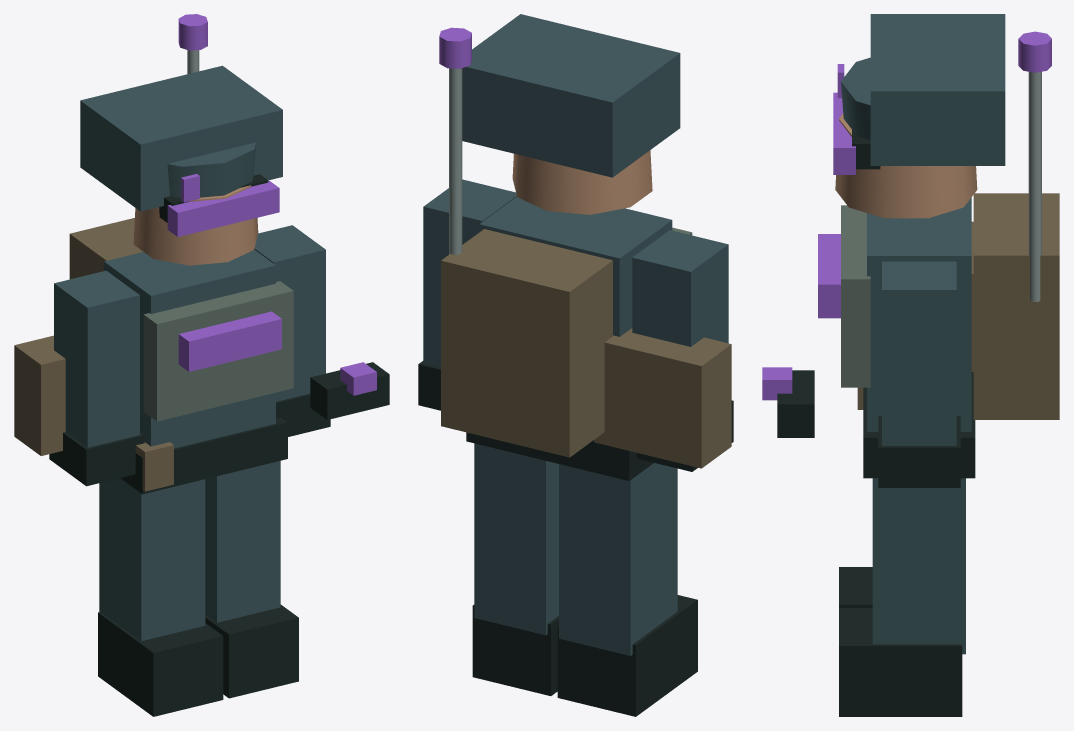
File: recon_l01.glb
3 views of the same model, side by side, from view 1: azimuth 30°, elevation 25°; view 2: azimuth 150°, elevation 25°; view 3: azimuth 270°, elevation 25° (orthographic). The views are drawn at different scales.
Visible parts, largest first — view 1: trouser (×2), sleeve (×2), hood, boot (×2), vest, body, map_satchel, belt, face, glove (×2), dzn_chest_flash, optic_band (+6 smaller); view 2: trouser (×2), field_pack, hood, sleeve (×2), map_satchel, boot (×2), body, face, belt, signal_mast, glove (×2), signal_tip; view 3: hood, field_pack, trouser, sleeve, boot (×2), body, face, vest, glove, signal_mast, scanner, helmet (+6 smaller).
Boxes of the visible parts, bbox=[...] form: trouser (×2): bbox=[99, 461, 280, 641]; sleeve (×2): bbox=[54, 225, 325, 447]; hood: bbox=[80, 65, 282, 211]; boot (×2): bbox=[98, 604, 298, 716]; vest: bbox=[143, 281, 293, 421]; body: bbox=[104, 250, 275, 448]; map_satchel: bbox=[14, 335, 65, 455]; belt: bbox=[120, 417, 287, 494]; face: bbox=[133, 185, 258, 265]; glove (×2): bbox=[49, 393, 330, 486]; dzn_chest_flash: bbox=[178, 311, 281, 371]; optic_band: bbox=[167, 180, 279, 236]; trouser (×2): bbox=[474, 443, 677, 655]; field_pack: bbox=[441, 229, 612, 457]; hood: bbox=[462, 14, 680, 177]; sleeve (×2): bbox=[423, 179, 728, 367]; map_satchel: bbox=[594, 328, 731, 468]; boot (×2): bbox=[472, 595, 697, 716]; body: bbox=[479, 197, 672, 336]; face: bbox=[512, 150, 652, 214]; belt: bbox=[466, 432, 653, 480]; signal_mast: bbox=[449, 68, 462, 254]; glove (×2): bbox=[418, 361, 733, 471]; signal_tip: bbox=[439, 27, 471, 68]; hood: bbox=[870, 14, 1005, 165]; field_pack: bbox=[973, 193, 1059, 419]; trouser: bbox=[872, 478, 965, 654]; sleeve: bbox=[882, 261, 956, 445]; boot (×2): bbox=[839, 567, 962, 716]; body: bbox=[867, 197, 971, 431]; face: bbox=[835, 113, 977, 218]; vest: bbox=[841, 205, 870, 387]; glove: bbox=[878, 416, 960, 487]; signal_mast: bbox=[1028, 71, 1041, 301]; scanner: bbox=[777, 370, 814, 437]; helmet: bbox=[841, 57, 870, 140].
Size of the model in its own units: 0.9625 by 1.97 by 0.795.
